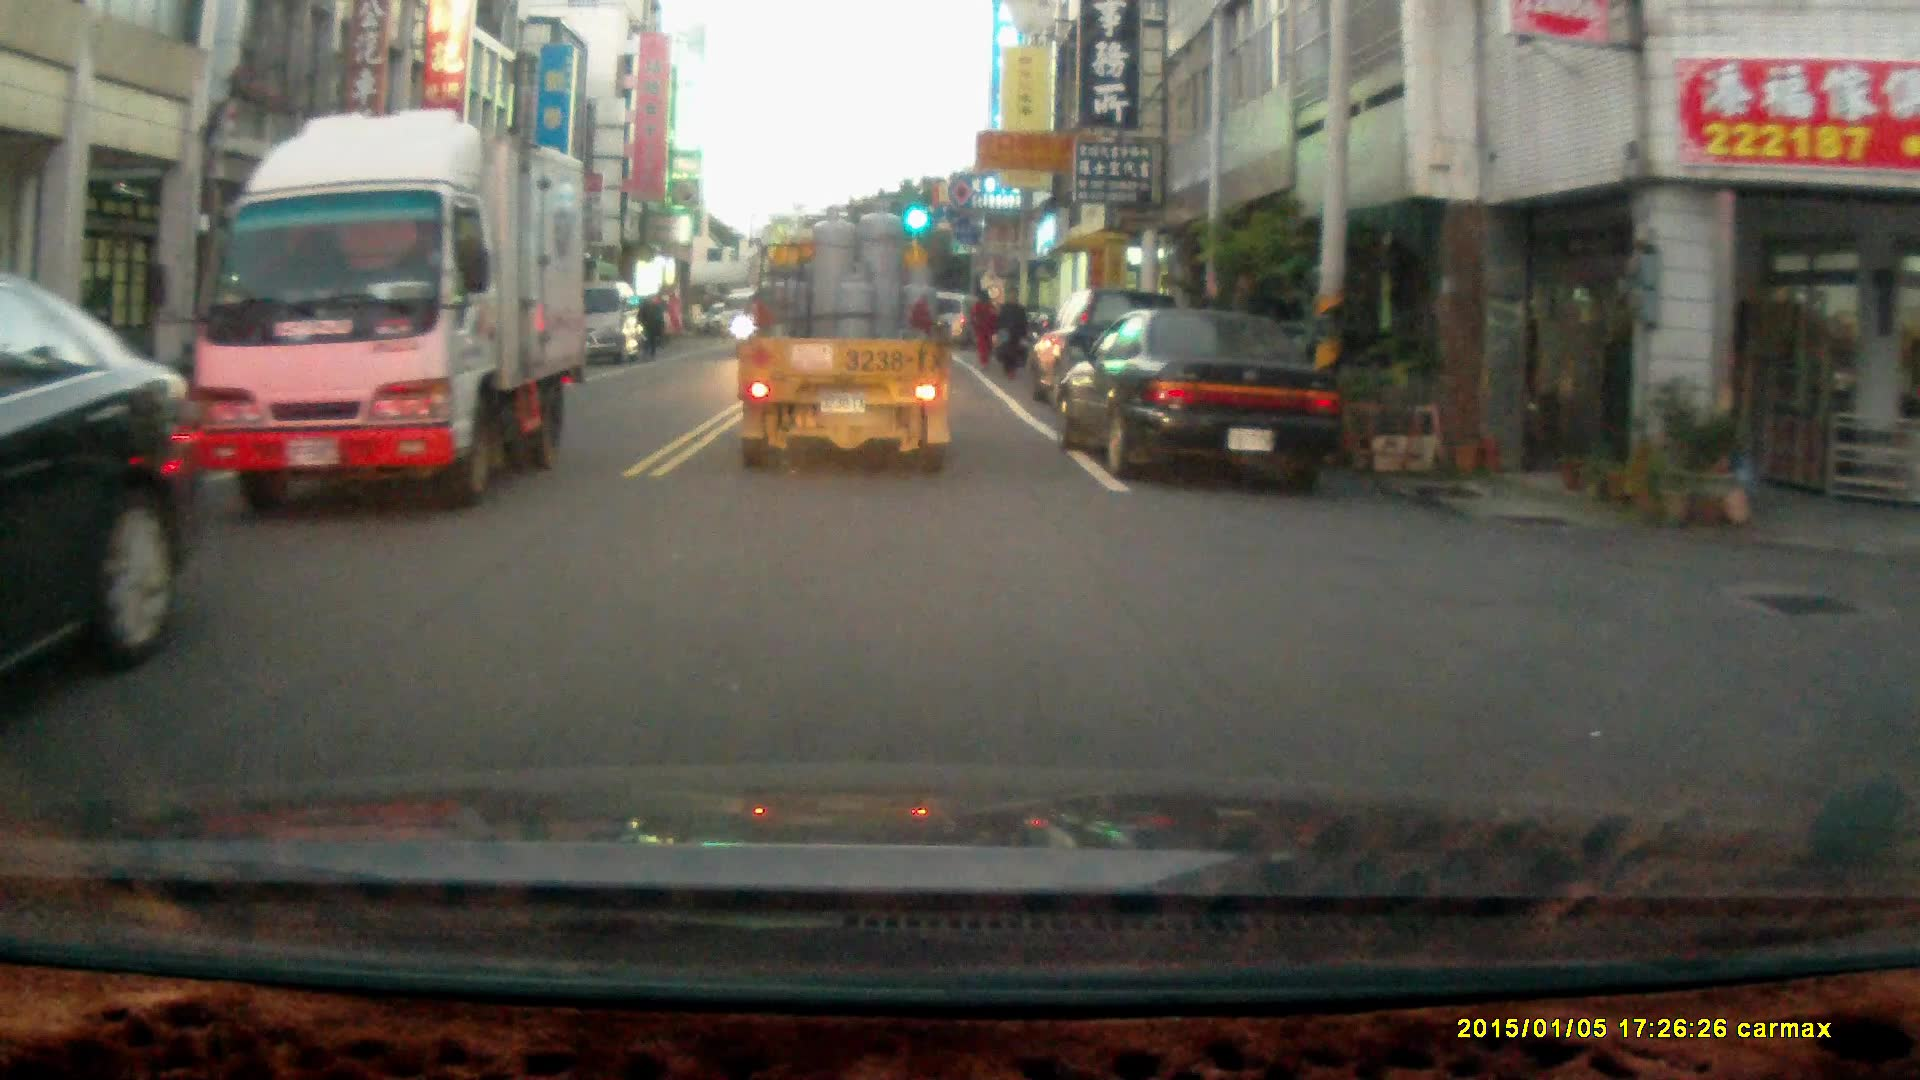pedestrian: (992, 286, 1027, 380), (964, 286, 997, 367), (633, 292, 663, 361)
vehicle: (194, 110, 590, 516), (1, 280, 206, 688), (731, 192, 961, 478), (1059, 307, 1343, 487), (581, 277, 645, 365)
